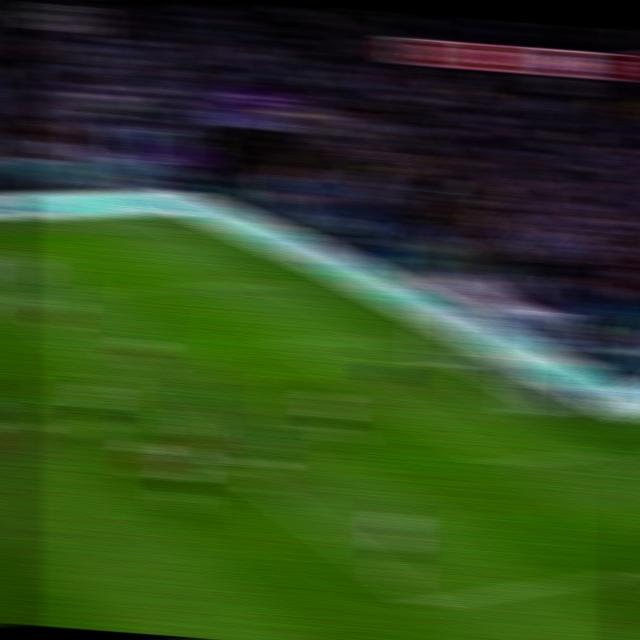bigarea_bottom_inner: (406, 590, 446, 618)
bigarea_top_inner: (0, 286, 20, 309)
bigarea_top_outter: (256, 272, 292, 293)
bottom_arc_area_intersection: (229, 462, 266, 485)
corner: (151, 219, 190, 236)
smallarea_bottom_inner: (476, 450, 519, 477)
smallarea_bottom_outter: (579, 440, 618, 463)
smallarea_top_inner: (271, 333, 311, 354)
smallarea_top_outter: (358, 324, 394, 345)
top_arc_area_intersection: (83, 357, 120, 380)
